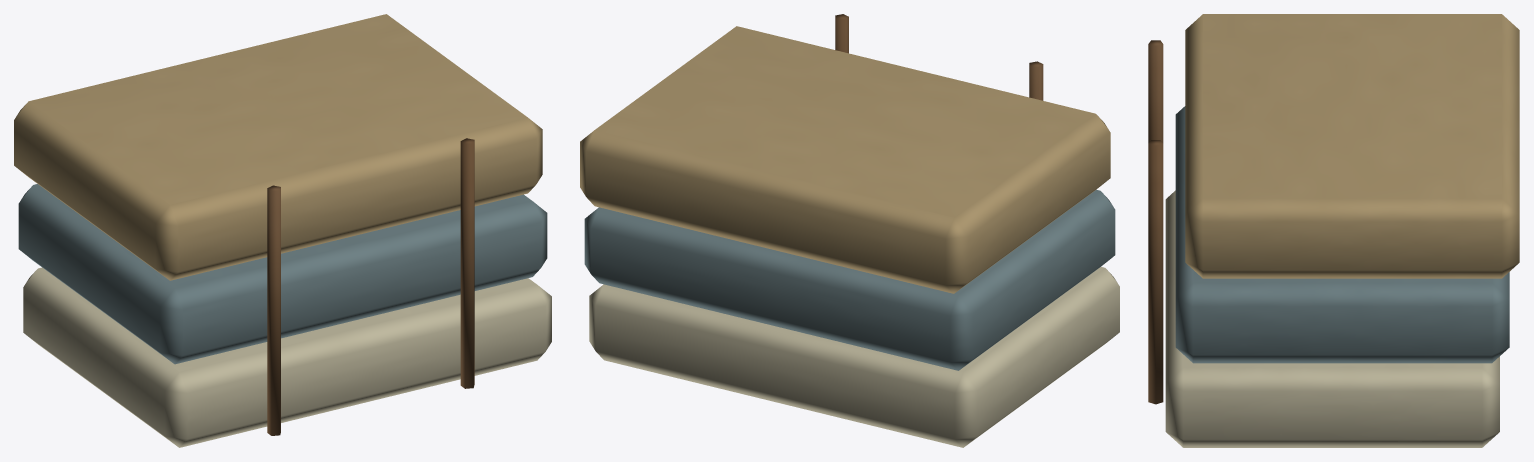
The model's file is s09-stoffe.glb.
3 views of the same model, side by side, from view 1: azimuth 30°, elevation 25°; view 2: azimuth 150°, elevation 25°; view 3: azimuth 270°, elevation 25° (orthographic). The views are drawn at different scales.
Visible parts, largest first — view 1: s09-stoffe; view 2: s09-stoffe; view 3: s09-stoffe.
Part boxes in pixels (bbox=[...]): s09-stoffe: bbox=[14, 14, 551, 447]; s09-stoffe: bbox=[580, 14, 1119, 447]; s09-stoffe: bbox=[1148, 14, 1519, 447].
Size of the model in its own units: 0.48 by 0.295 by 0.3776.
Materials: 1 (1 with a texture image).
